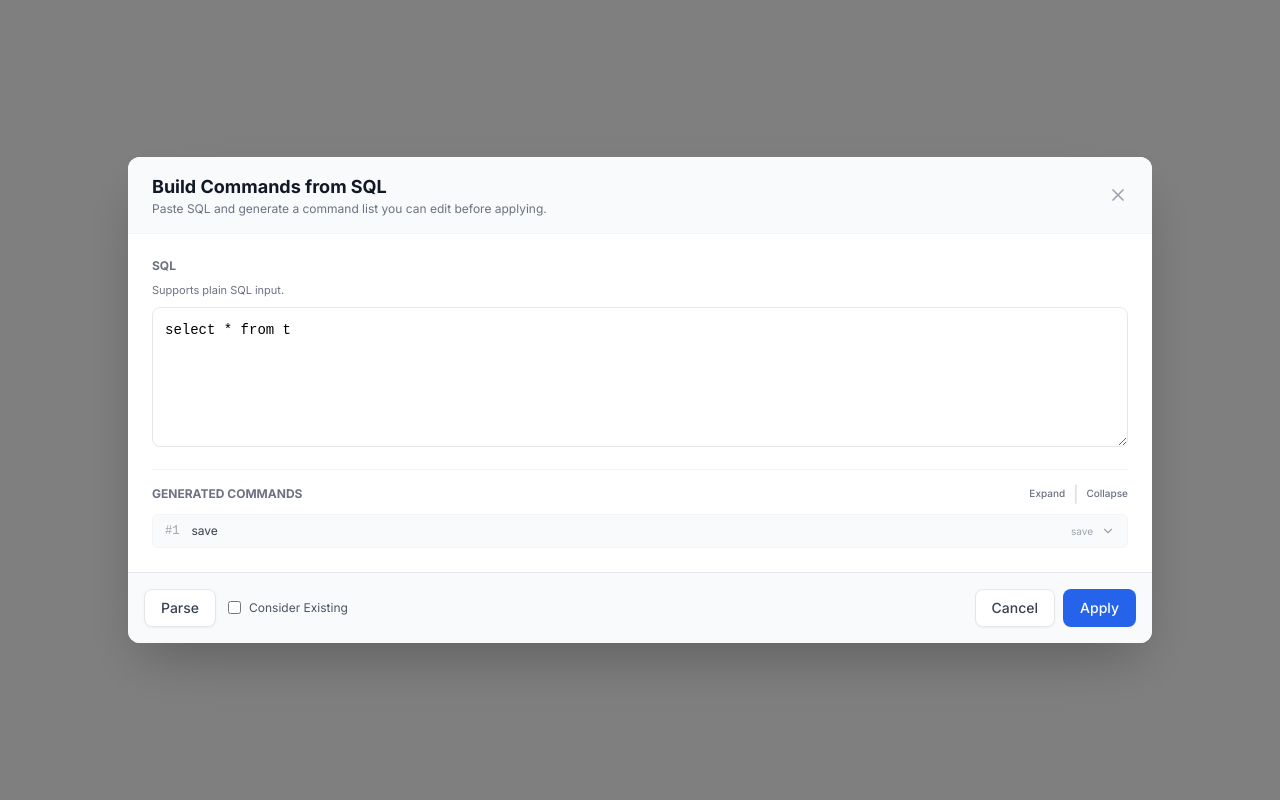
Test: SqlBuilderModal editable command sections › renders editable save section
Click the button "#1 save save": (169, 531) [153, 515, 1127, 547]
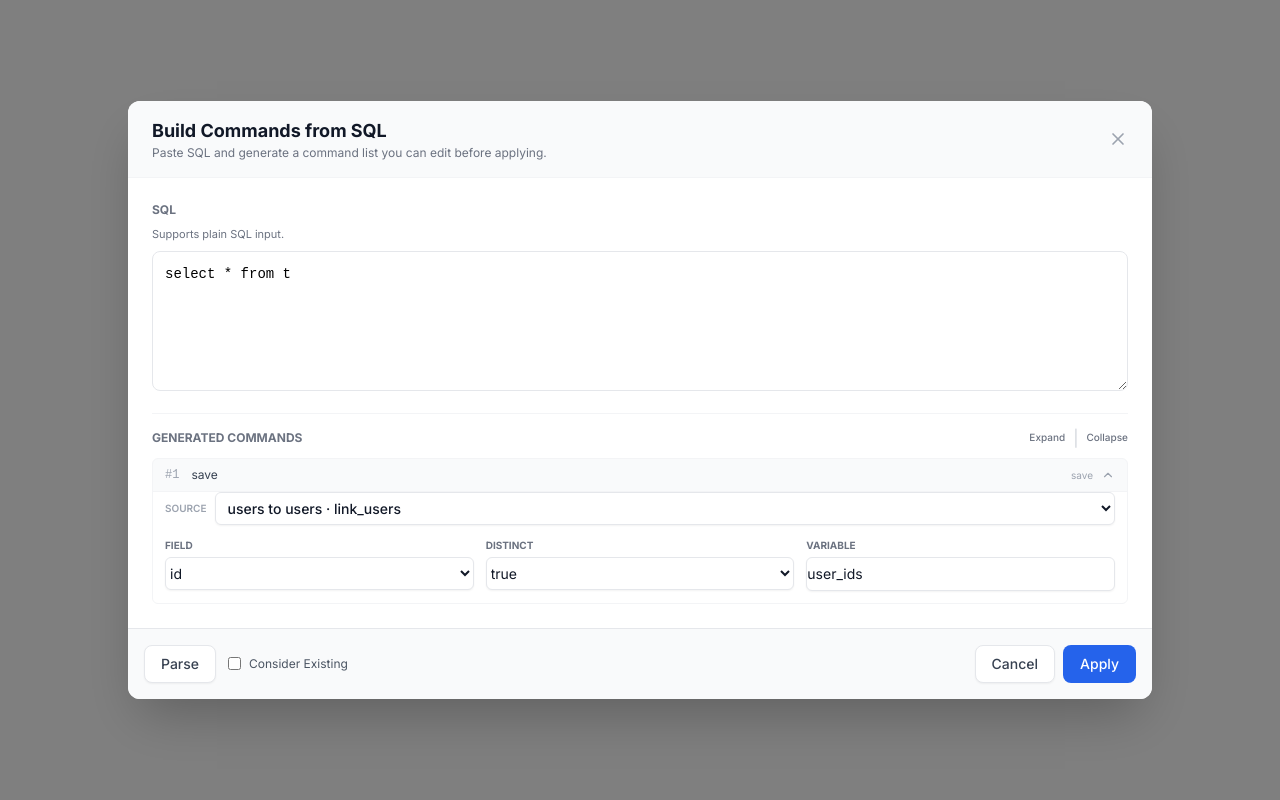
Check: the text "Distinct" is shown, box [486, 539, 533, 551]
Check: the text "Variable" is shown, box [806, 539, 856, 551]
